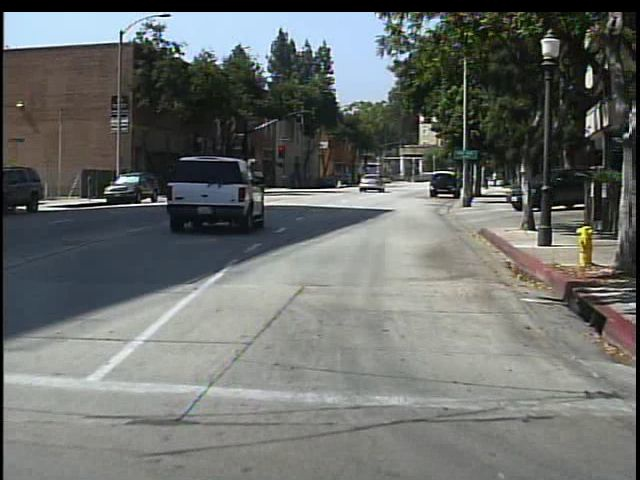person: (331, 170, 347, 191), (491, 169, 501, 189)
